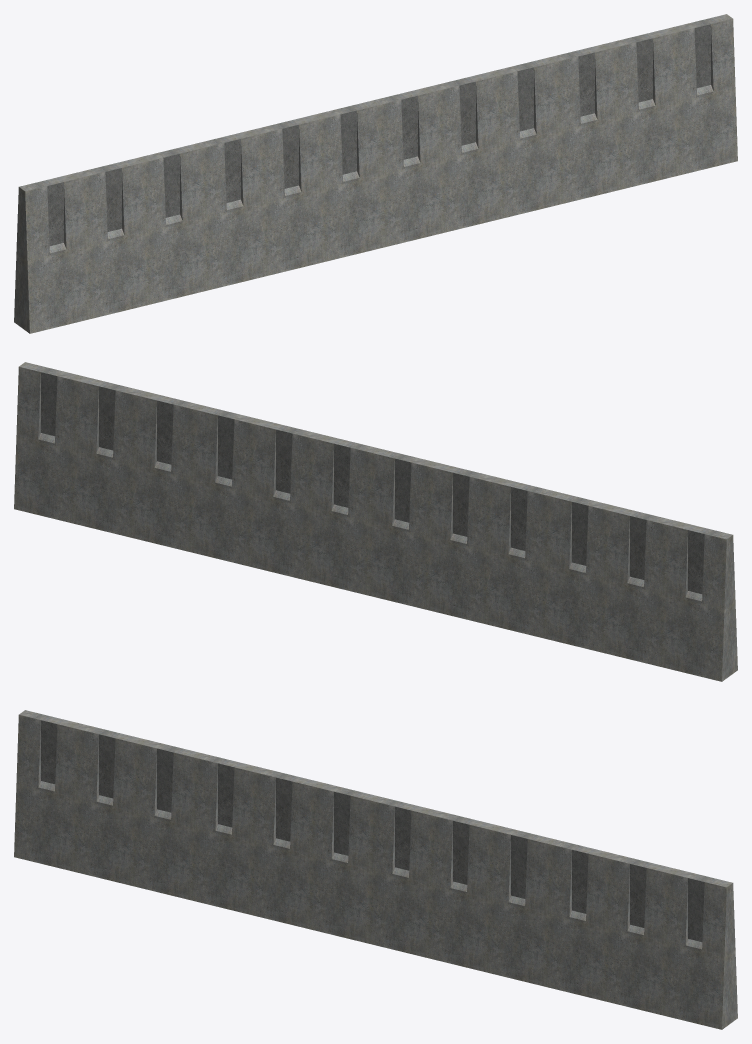
The model's file is mun_all_military_wall_weak_impl_32_s01_l1.fbx.
The picture shows the model from 3 angles, top to bottom: view 1: azimuth 30°, elevation 25°; view 2: azimuth 150°, elevation 25°; view 3: azimuth 330°, elevation 25°; orthographic projection.
Visible parts, largest first — view 1: mesh_node; view 2: mesh_node; view 3: mesh_node.
Part boxes in pixels (x1,y1,x2,y2): mesh_node: (14, 14, 737, 333); mesh_node: (14, 362, 737, 681); mesh_node: (14, 710, 737, 1029).
Bounding box in the file's own units: 32 × 6 × 1.25.
